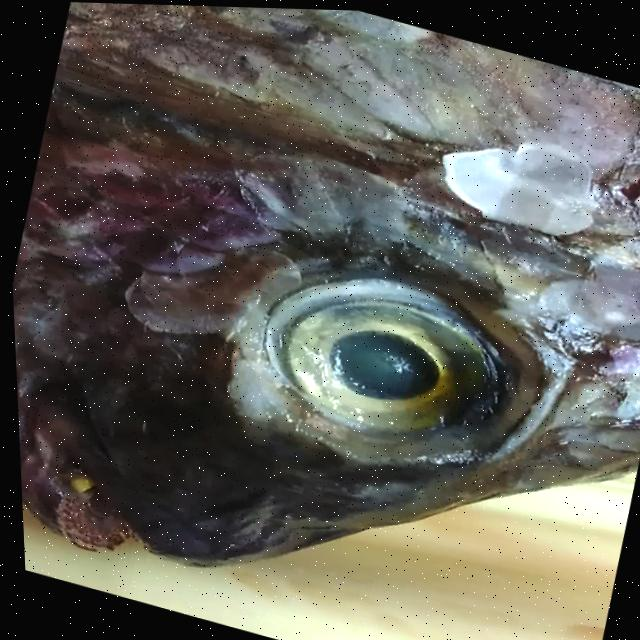Non-Fresh: (217, 212, 558, 526)
